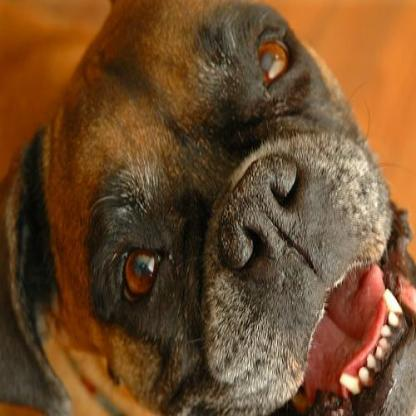boxer: (0, 0, 414, 413)
